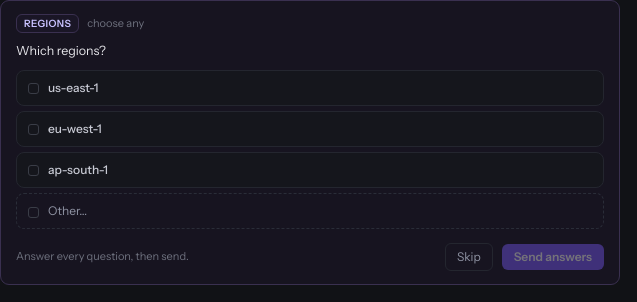
Test case: QuestionCard › clicking a chosen option again takes it back
What coordinates should you click on to do the following:
click the button "us-east-1"
I would click on:
 (73, 87)
Its box is [16,70,604,106].
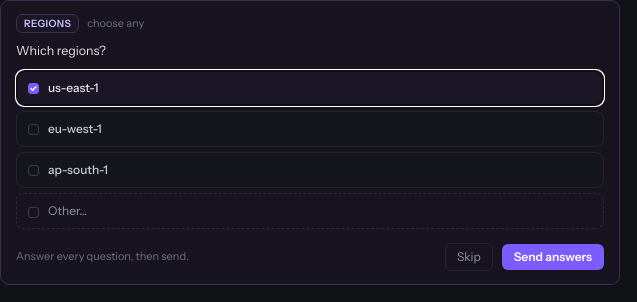
Expected: the button "us-east-1" is pressed
What coordinates should you click on to do the following:
click the button "us-east-1"
I would click on:
 (73, 87)
Its box is [16,70,604,106].
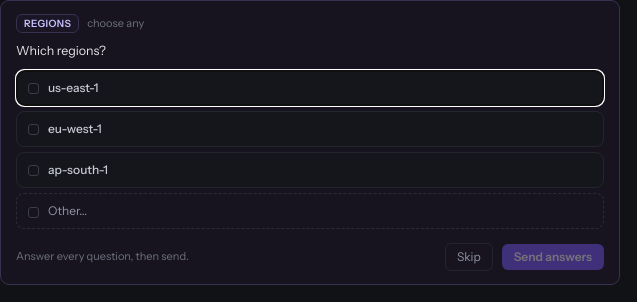
Expected: the button "Send answers" is disabled, [502,244,604,270]
